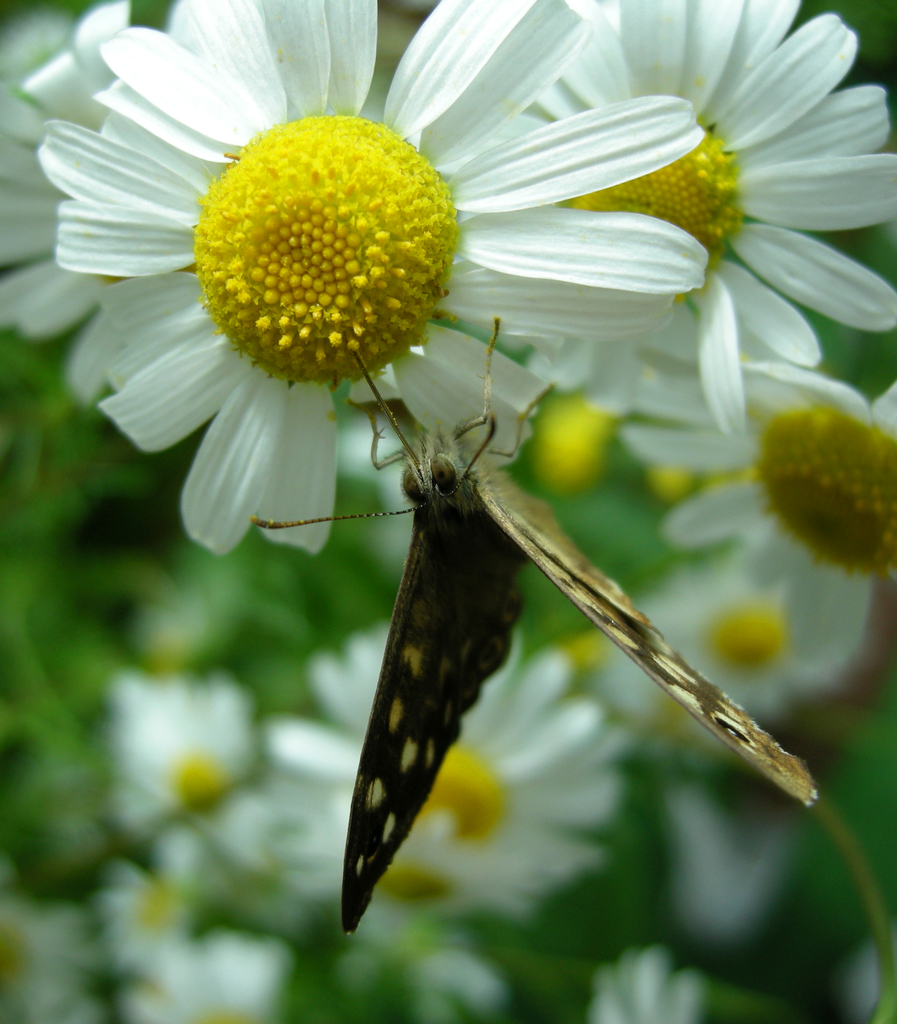Butterfly: (280, 324, 836, 929)
